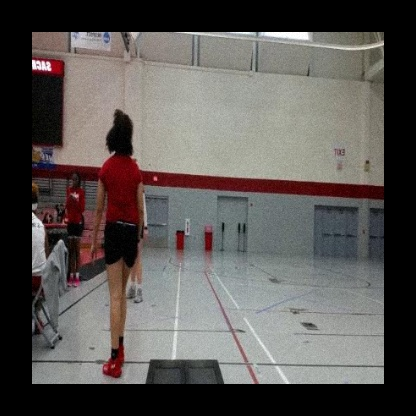lateral_flexion_left: (89, 107, 145, 384)
stance_width_narrow: (101, 151, 145, 384)
